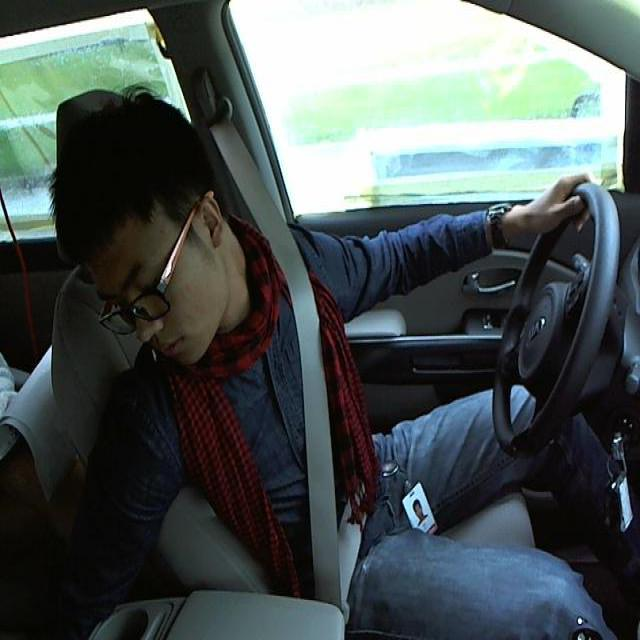seatbelt: (275, 259, 371, 596)
